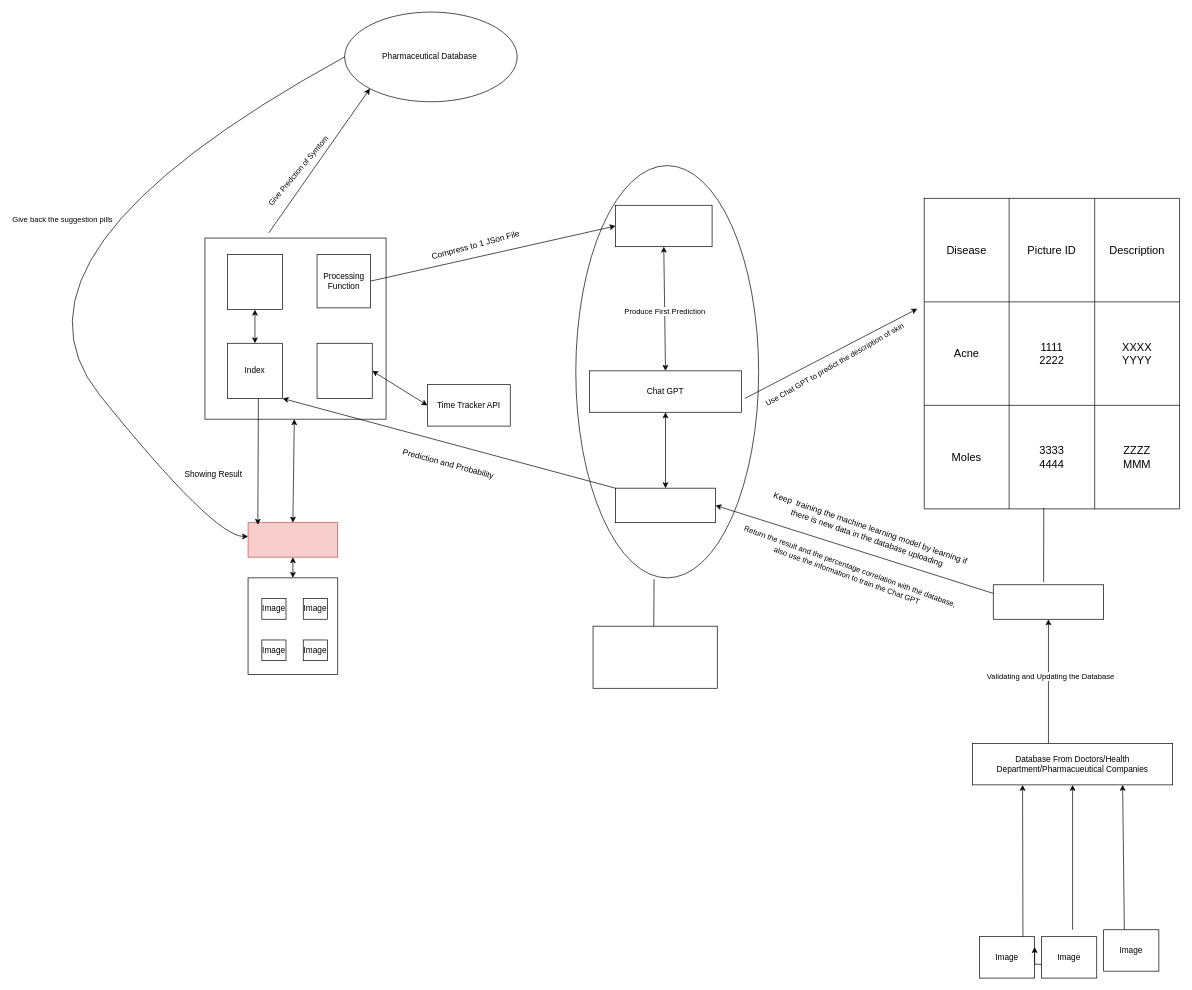
The diagram is 1192 pixels wide and 990 high, and some of its shapes have lost their labels. The box of each missing label's shape, as (x1, y1, x2, y2) in pixels:
Client: (247, 522, 338, 557)
Database: (993, 584, 1104, 619)
Google Cloud Provider: (592, 625, 717, 688)
Internal DB: (227, 254, 283, 310)
Prediction Skin Detection Machine Learning: (615, 205, 712, 247)
Skin Learning Training Model: (615, 487, 716, 523)
Watcher: (316, 343, 372, 398)
